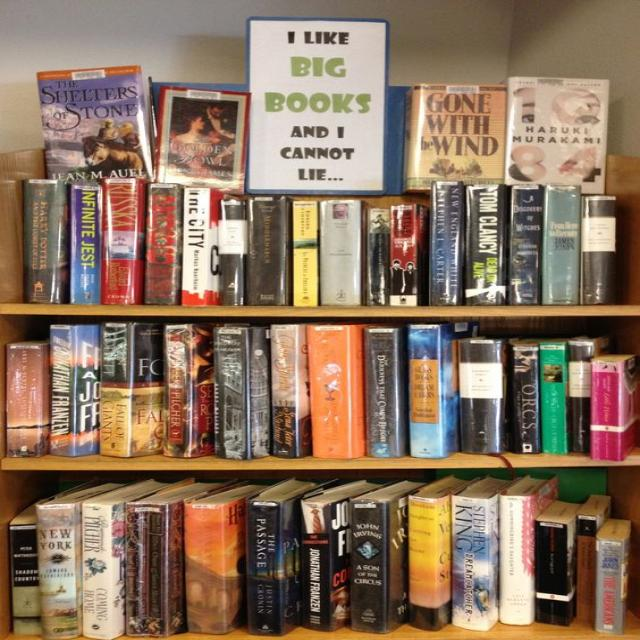book: (304, 325, 352, 458), (37, 503, 83, 639), (123, 500, 169, 636), (186, 501, 228, 634), (457, 341, 502, 455), (247, 499, 284, 637), (81, 502, 117, 639), (464, 185, 504, 304), (453, 496, 488, 632), (143, 182, 182, 304), (246, 195, 289, 305), (160, 324, 195, 458), (364, 328, 400, 458), (24, 178, 61, 304), (408, 326, 443, 459), (103, 179, 140, 304), (353, 498, 386, 634), (99, 323, 132, 457), (216, 328, 249, 458), (499, 495, 532, 624), (298, 500, 330, 633), (407, 495, 438, 629), (69, 185, 103, 304), (322, 200, 360, 305), (545, 185, 577, 304), (270, 323, 298, 457), (7, 345, 40, 456), (49, 326, 77, 455), (537, 519, 570, 626), (582, 197, 615, 303), (511, 184, 540, 304), (10, 524, 41, 635), (433, 181, 459, 304), (182, 187, 209, 305), (511, 347, 541, 452), (593, 537, 624, 635), (218, 199, 246, 305), (389, 205, 417, 304), (593, 362, 621, 459), (541, 347, 566, 455), (570, 340, 593, 452), (293, 200, 317, 306), (575, 513, 596, 619), (368, 207, 389, 305)
